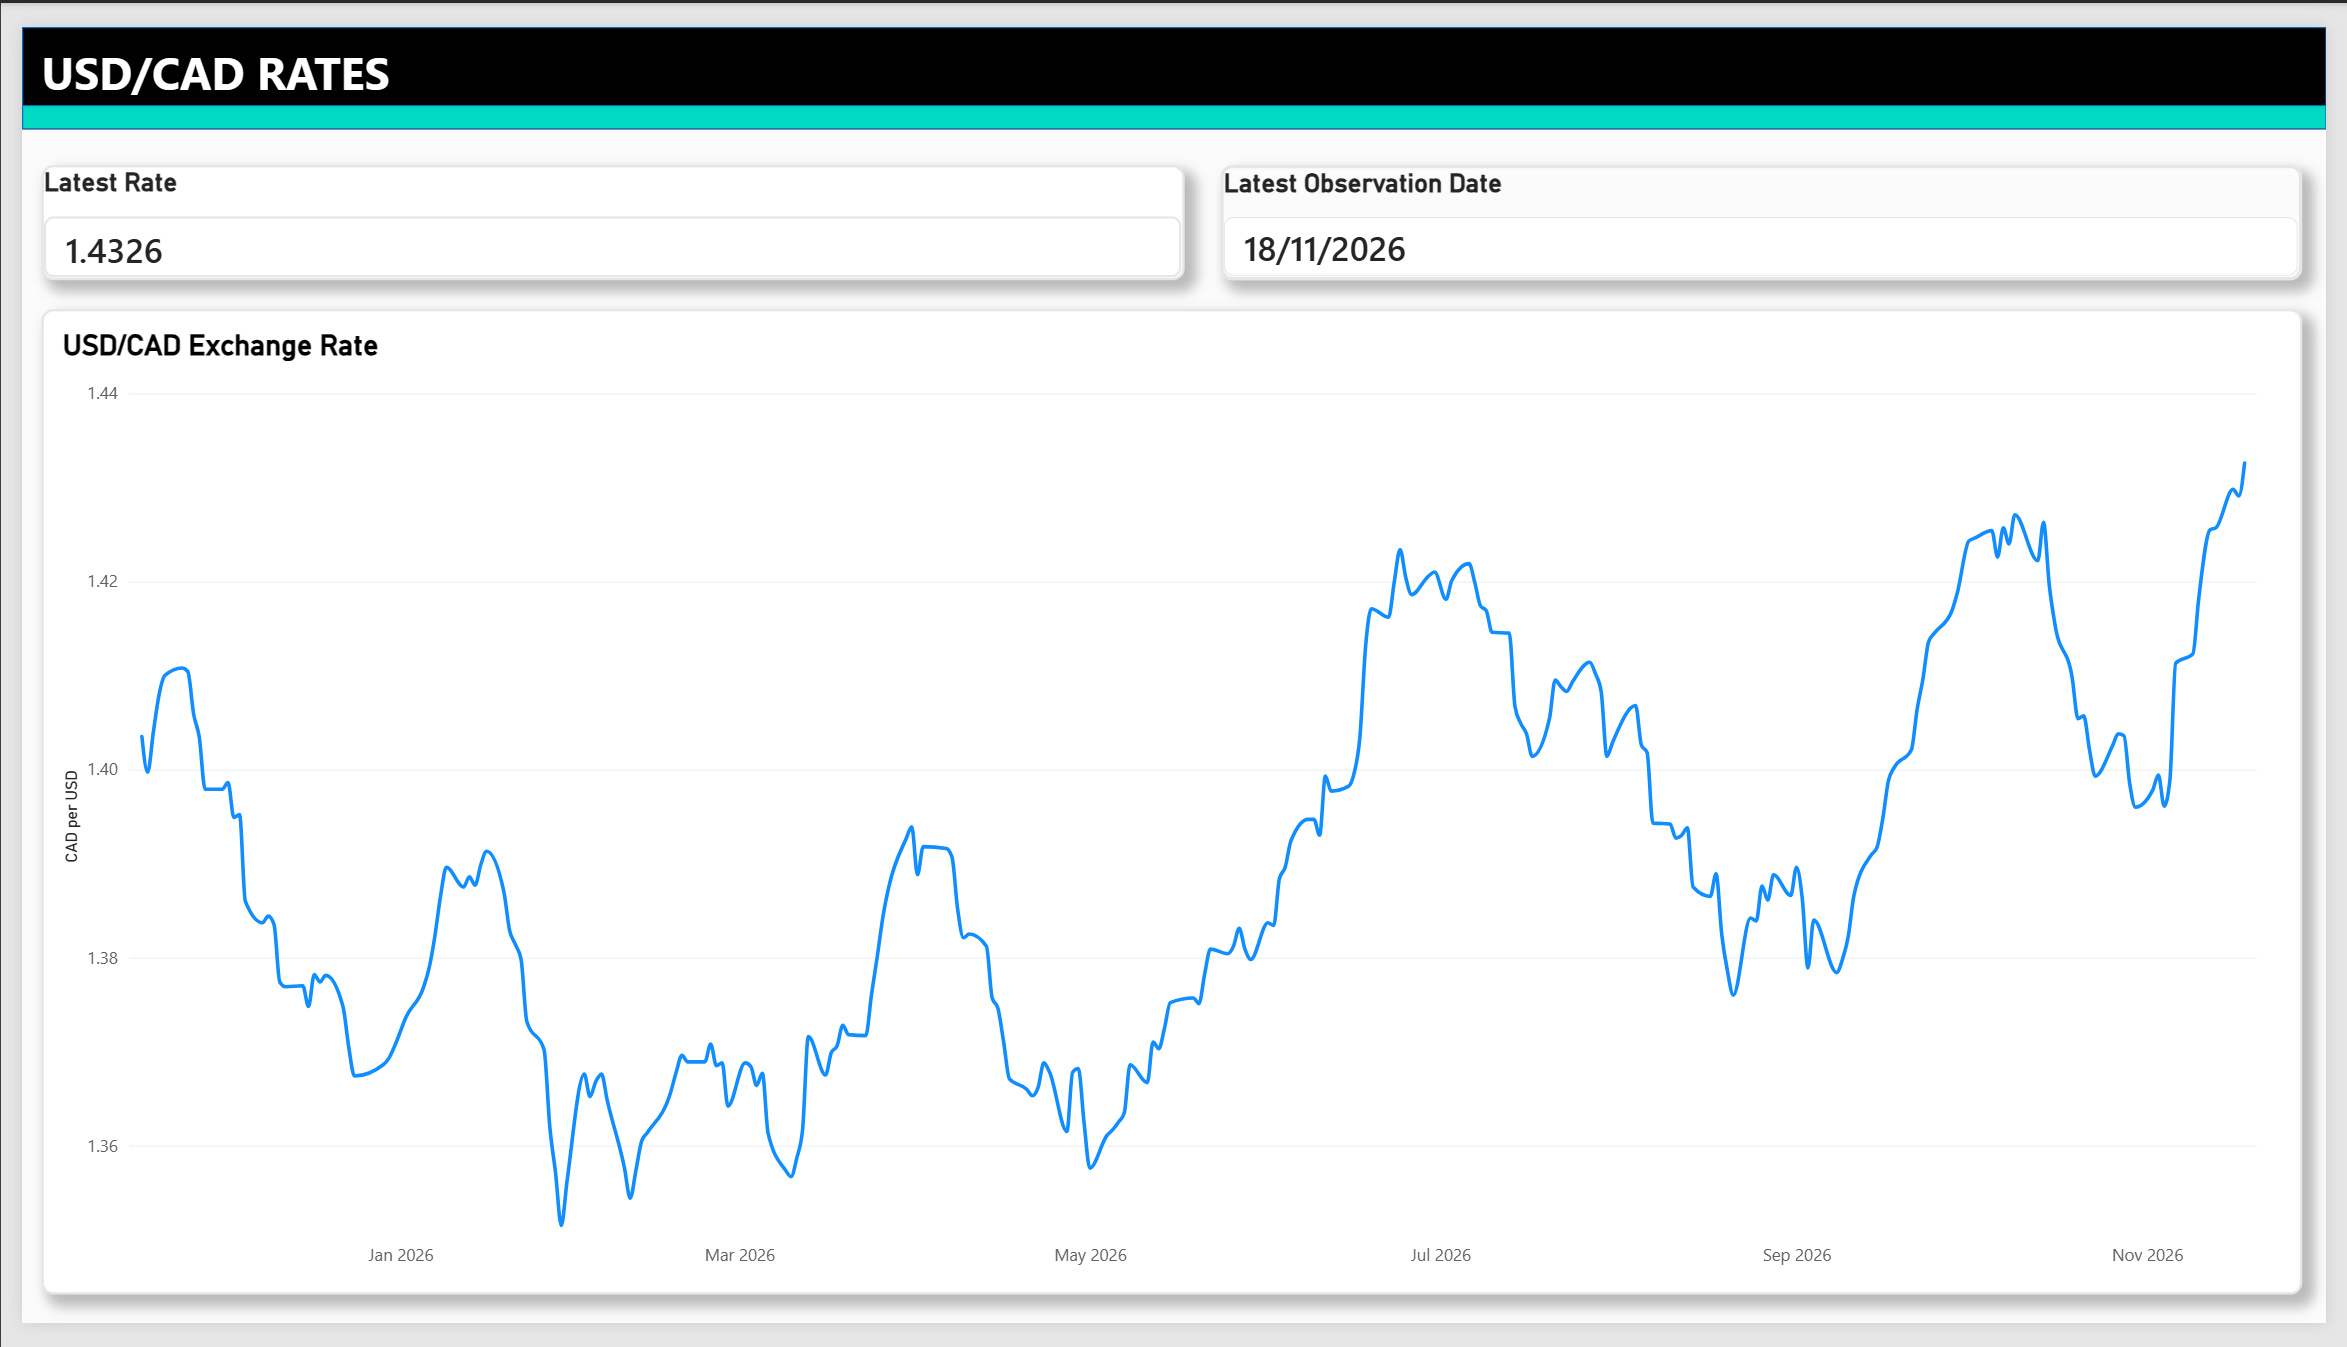

Layout of this report page (visuals, bound fields, positions):
{"tool":"powerbi","page":{"name":"USD/CAD Overview","canvas":[1920,1080],"ordinal":0},"visuals":[{"type":"lineChart","title":"USD/CAD Exchange Rate","fields":{"Category":["ExchangeRate.ObservationDate"],"Y":["Avg(ExchangeRate.Rate)"]},"box":[16.2,235.5,1883.9,821.5],"z":0},{"type":"cardVisual","title":"Latest Observation Date","fields":{"Data":["ExchangeRate.Latest Observation Date"]},"box":[998.8,115,901.4,96.1],"z":1000},{"type":"cardVisual","title":"Latest Rate","fields":{"Data":["ExchangeRate.Latest Rate"]},"box":[16.2,115,952.8,96.1],"z":2000},{"type":"shape","box":[0,0,1920.5,85.3],"z":2001},{"type":"shape","box":[0,65,1920.5,20.3],"z":2002},{"type":"textbox","box":[16.2,12.2,318,63.6],"z":2003}]}

Visuals, with their boxes in screenshot pixels (x1, y1, x2, y2), scaled from the page's 1920x1080 canvas onto the 2347x1347 screenshot:
"USD/CAD Exchange Rate" lineChart: (x1=20, y1=294, x2=2323, y2=1318)
"Latest Observation Date" cardVisual: (x1=1221, y1=143, x2=2323, y2=263)
"Latest Rate" cardVisual: (x1=20, y1=143, x2=1185, y2=263)
shape: (x1=0, y1=0, x2=2346, y2=106)
shape: (x1=0, y1=81, x2=2346, y2=106)
textbox: (x1=20, y1=15, x2=409, y2=95)
